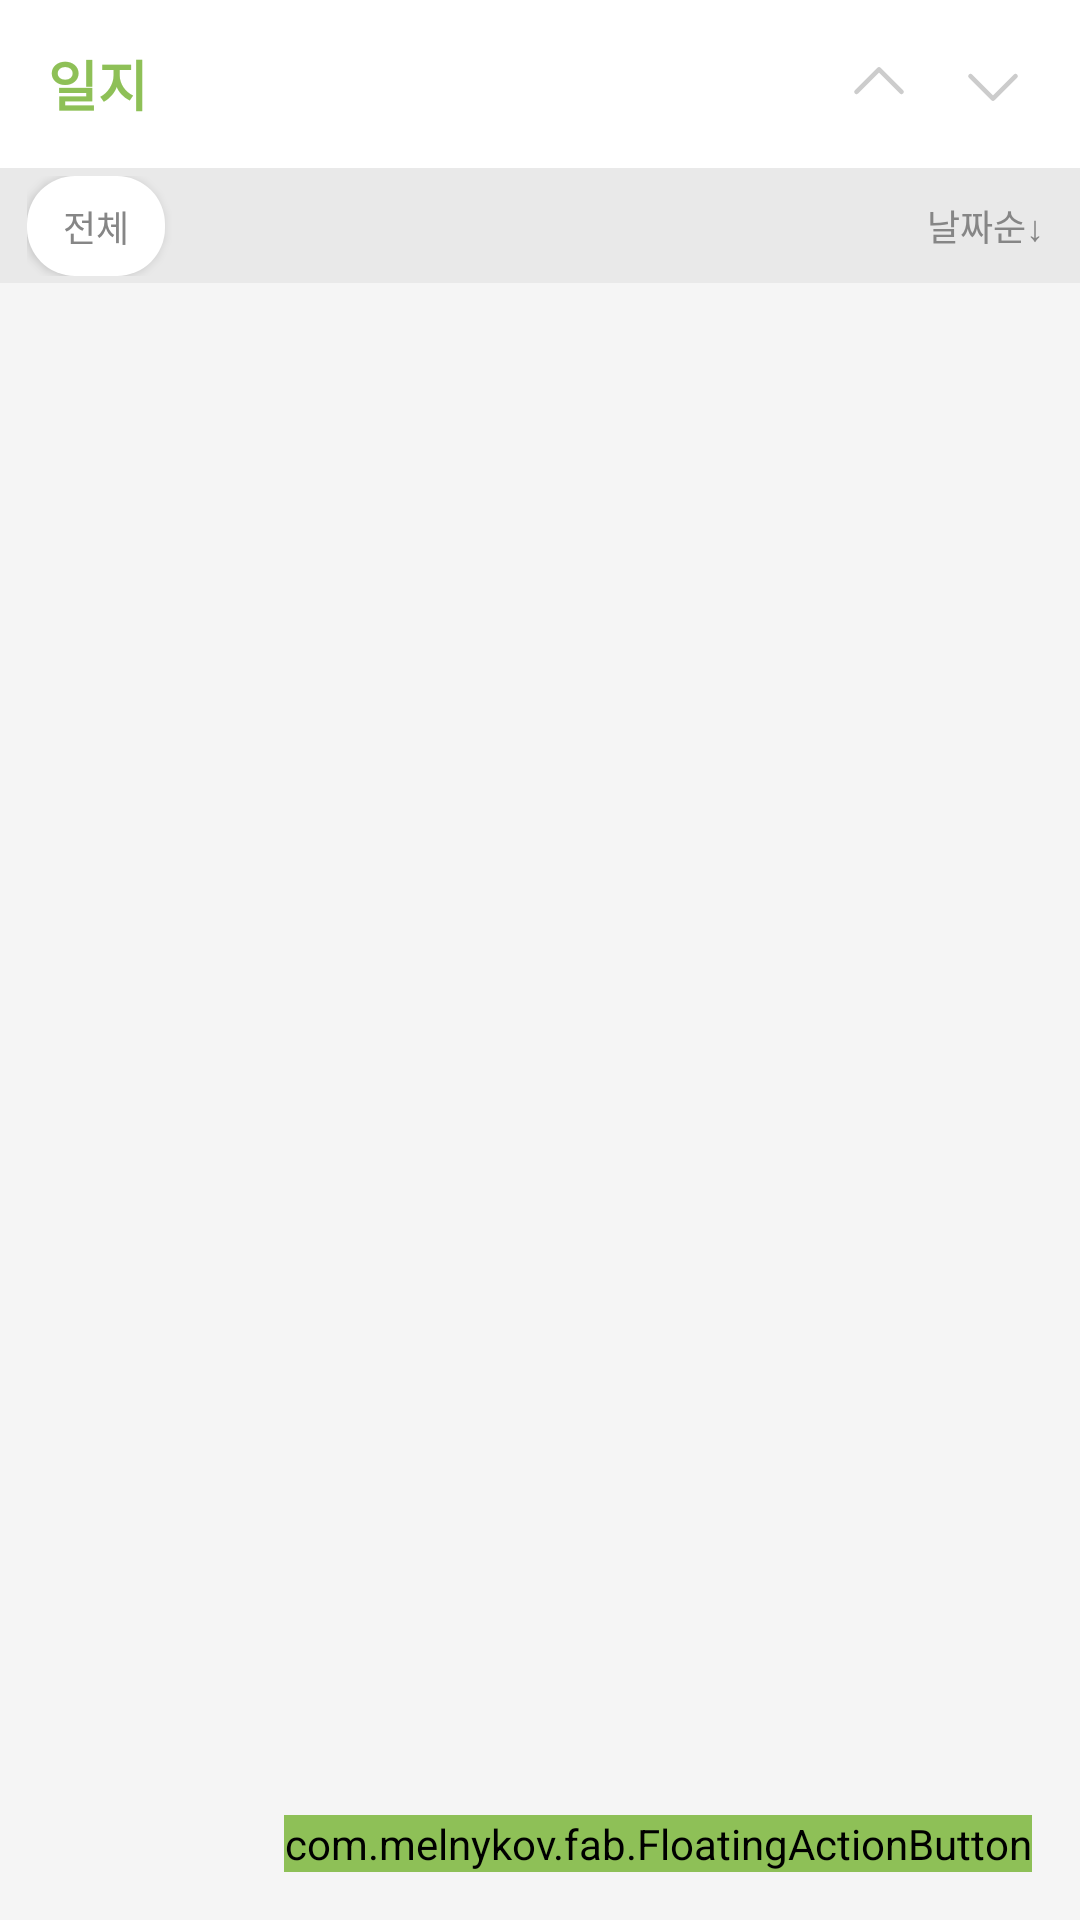

Icon bounding boxes for this 1080px x 1920px phone screenshot, format (x1, y1, x2, y2):
down: (968, 74, 1018, 101)
